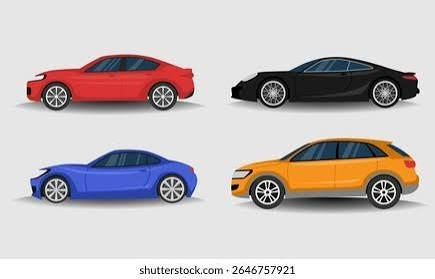car: (227, 135, 415, 208), (233, 53, 417, 108), (27, 53, 199, 109), (31, 148, 201, 204)
